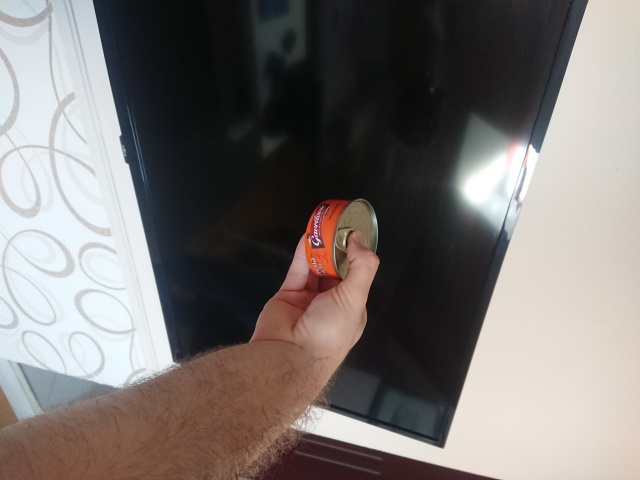Gavrilovic Pork Liver Pate 100g: (302, 195, 381, 286)
